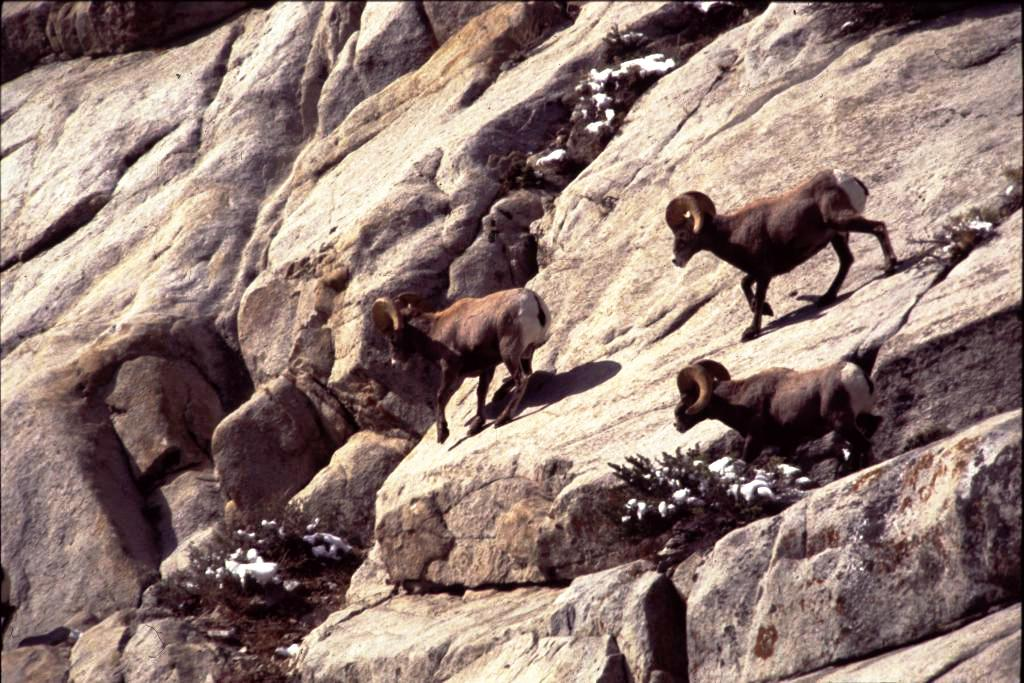Sheep: (665, 168, 893, 343), (374, 292, 553, 442), (672, 358, 878, 471)
